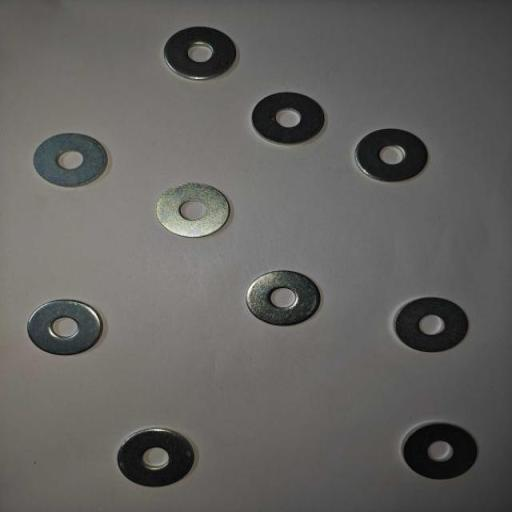washer: (117, 427, 195, 486), (402, 421, 478, 480), (33, 132, 109, 189), (27, 299, 104, 355), (156, 181, 231, 238), (246, 269, 320, 326), (163, 26, 238, 81), (394, 297, 468, 352), (354, 128, 429, 182), (251, 92, 326, 145)
